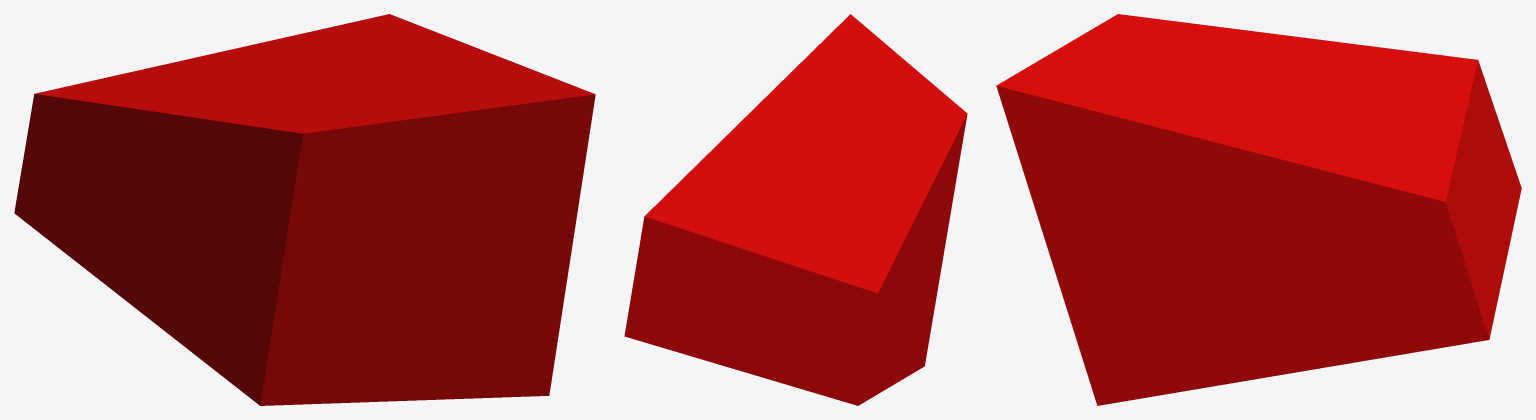
The model's file is SM_Env_RoadPiece_Damaged_12_Collision.fbx.
3 views of the same model, side by side, from view 1: azimuth 30°, elevation 25°; view 2: azimuth 150°, elevation 25°; view 3: azimuth 270°, elevation 25° (orthographic). The views are drawn at different scales.
Visible parts, largest first — view 1: SM_Env_RoadPiece_Damaged_12_Collision; view 2: SM_Env_RoadPiece_Damaged_12_Collision; view 3: SM_Env_RoadPiece_Damaged_12_Collision.
Part boxes in pixels (bbox=[...]): SM_Env_RoadPiece_Damaged_12_Collision: bbox=[14, 14, 595, 405]; SM_Env_RoadPiece_Damaged_12_Collision: bbox=[624, 14, 967, 405]; SM_Env_RoadPiece_Damaged_12_Collision: bbox=[996, 14, 1521, 405].
Size of the model in its own units: 138 by 132 by 199.
